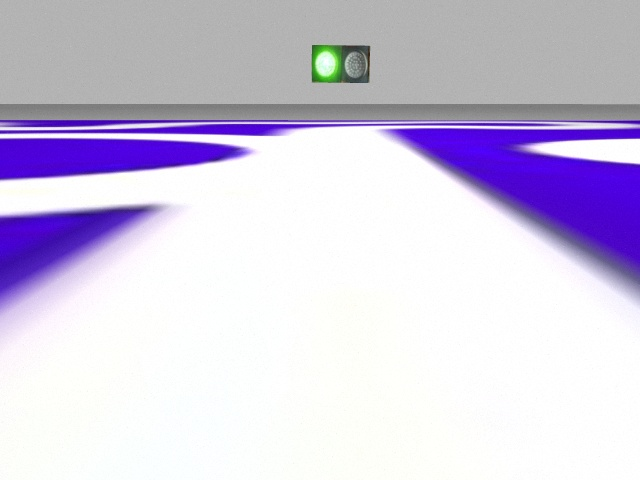green: (312, 44, 345, 83)
